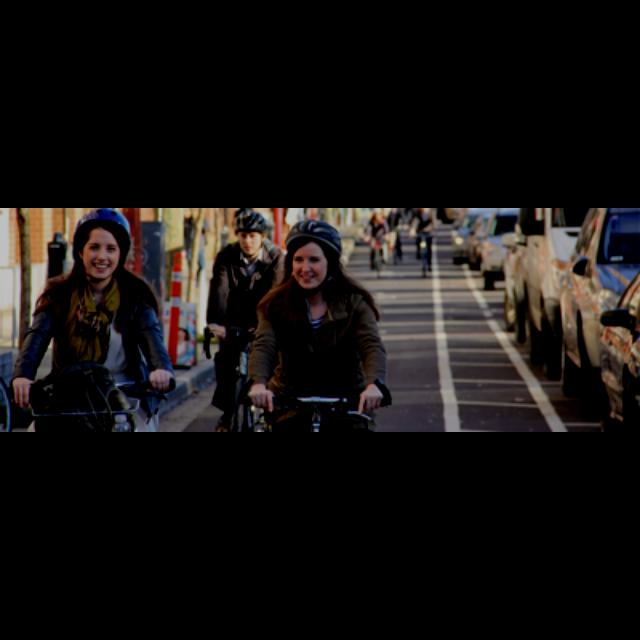With Helmet: (68, 212, 136, 278), (284, 217, 344, 291)
